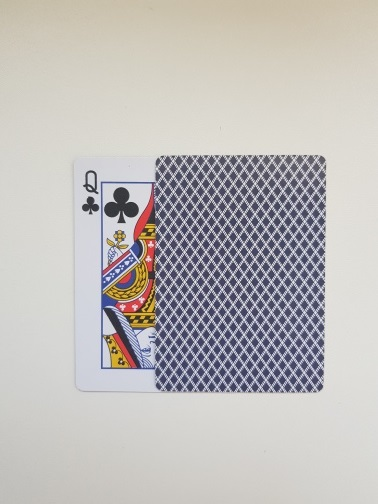queen: (74, 156, 245, 394)
